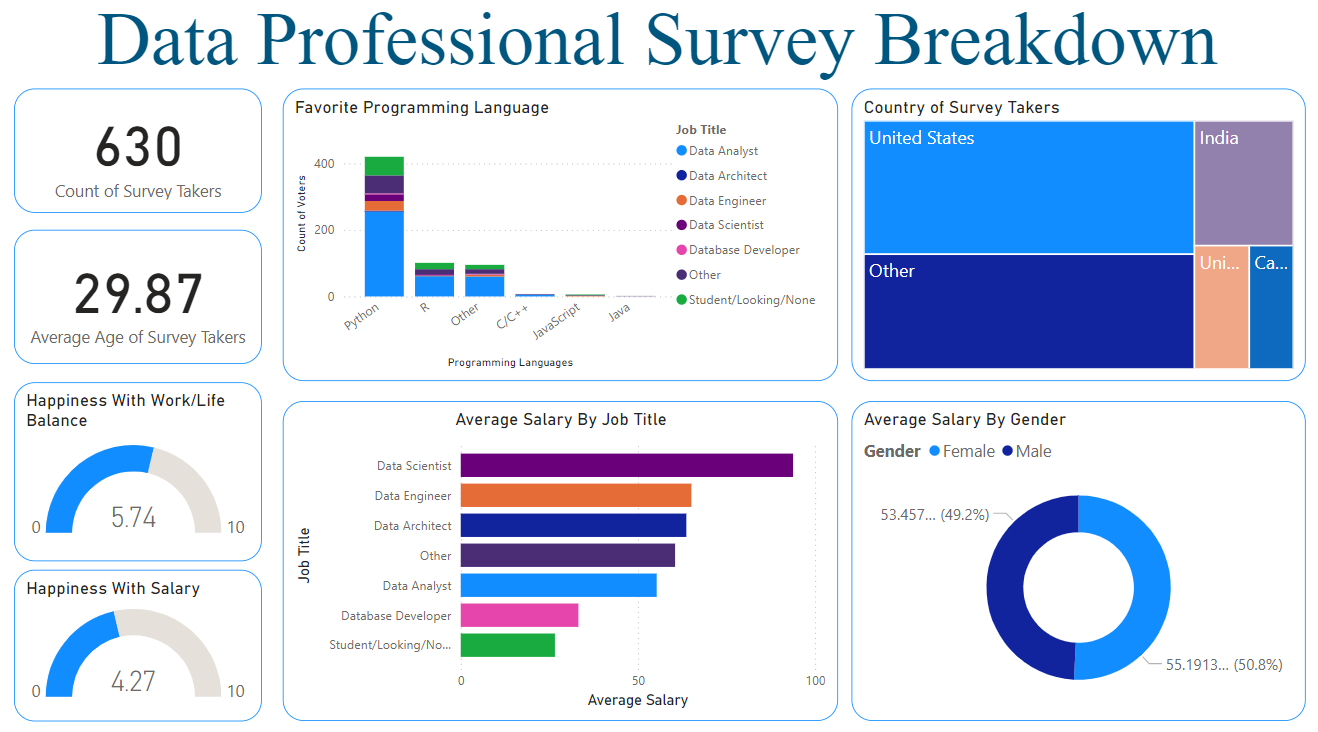

This screenshot's page, from the dashboard's own definition file:
{"tool":"powerbi","page":{"name":"Page 1","canvas":[1280,720],"ordinal":0},"visuals":[{"type":"textbox","box":[0,0,1280.3,108.5],"z":0},{"type":"card","fields":{"Values":["Count(Data Professional Survey.Unique ID)"]},"box":[19.5,94.6,239.4,119.7],"z":1000},{"type":"card","fields":{"Values":["Avg(Data Professional Survey.Q10 - Current Age)"]},"box":[19.5,231,239.4,129.4],"z":2000},{"type":"barChart","title":" Average Salary By Job Title","fields":{"Category":["Data Professional Survey.Q1 - Which Title Best Fits your Current Role?.1"],"Y":["Avg(Data Professional Survey.Average Salary)"],"Series":["Data Professional Survey.Q1 - Which Title Best Fits your Current Role?.1"]},"box":[278.3,395.2,535.8,308.9],"z":3000},{"type":"columnChart","title":"Favorite Programming Language","fields":{"Category":["Data Professional Survey.Q5 - Favorite Programming Language.1"],"Y":["CountNonNull(Data Professional Survey.Unique ID)"],"Series":["Data Professional Survey.Q1 - Which Title Best Fits your Current Role?.1"]},"box":[278.3,94.6,535.8,282.5],"z":4000},{"type":"treemap","title":"Country of Survey Takers","fields":{"Group":["Data Professional Survey.Q11 - Which Country do you live in?.1"],"Values":["CountNonNull(Data Professional Survey.Q11 - Which Country do you live in?.1)"]},"box":[828,94.6,438.4,282.5],"z":5000},{"type":"gauge","title":"Happiness With Work/Life Balance","fields":{"MinValue":["Min(Data Professional Survey.Q6 - How Happy are you in your Current Position with the following? (Work/Life Balance))1"],"MaxValue":["Max(Data Professional Survey.Q6 - How Happy are you in your Current Position with the following? (Work/Life Balance))2"],"Y":["Avg(Data Professional Survey.Q6 - How Happy are you in your Current Position with the following? (Work/Life Balance))"]},"box":[19.5,377.1,239.4,172.6],"z":6000},{"type":"gauge","title":"Happiness With Salary","fields":{"Y":["Avg(Data Professional Survey.Q6 - How Happy are you in your Current Position with the following? (Salary))"],"MinValue":["Min(Data Professional Survey.Q6 - How Happy are you in your Current Position with the following? (Salary))"],"MaxValue":["Max(Data Professional Survey.Q6 - How Happy are you in your Current Position with the following? (Salary))"]},"box":[19.5,558,239.4,146.1],"z":7000},{"type":"donutChart","title":"Average Salary By Gender","fields":{"Category":["Data Professional Survey.Q9 - Male/Female?"],"Y":["Avg(Data Professional Survey.Average Salary)"]},"box":[828,395.2,438.4,308.9],"z":8000}]}

Visuals, with their boxes in screenshot pixels (x1, y1, x2, y2), scaled from the page's 1280x720 canvas onto the 1318x732 screenshot:
textbox: locate(0, 0, 1317, 110)
card - Count(Data Professional Survey.Unique ID): locate(20, 96, 267, 218)
card - Avg(Data Professional Survey.Q10 - Current Age): locate(20, 235, 267, 366)
" Average Salary By Job Title" barChart: locate(287, 402, 838, 716)
"Favorite Programming Language" columnChart: locate(287, 96, 838, 383)
"Country of Survey Takers" treemap: locate(853, 96, 1304, 383)
"Happiness With Work/Life Balance" gauge: locate(20, 383, 267, 559)
"Happiness With Salary" gauge: locate(20, 567, 267, 716)
"Average Salary By Gender" donutChart: locate(853, 402, 1304, 716)
